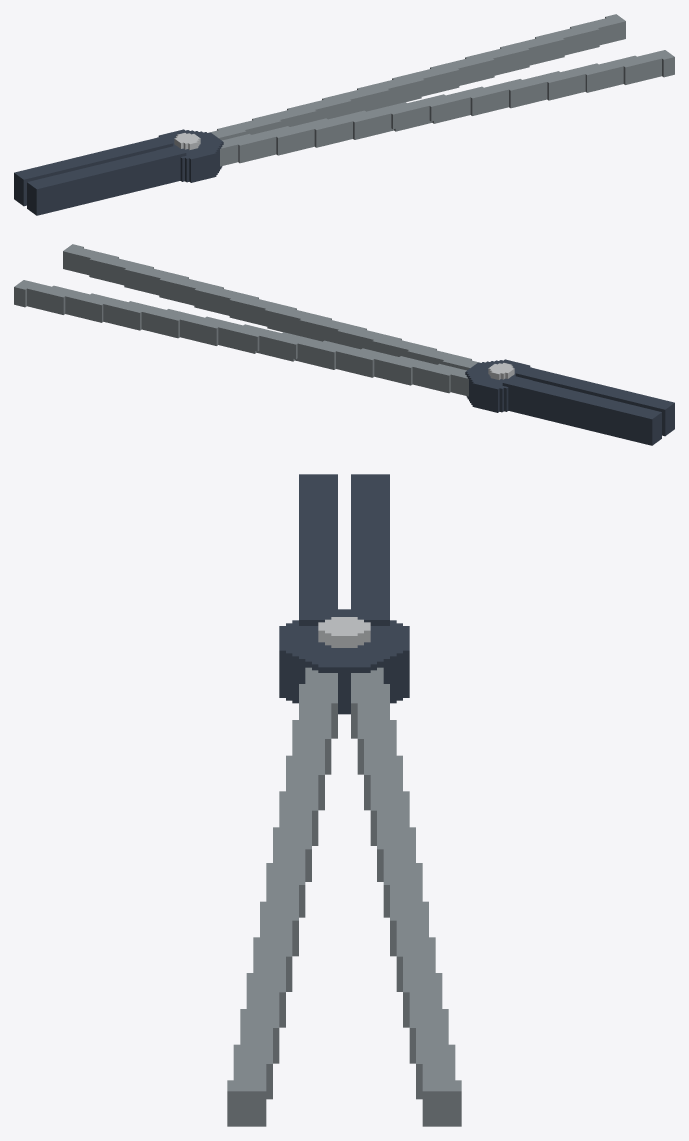
The model's file is metalworking_tongs.glb.
The picture shows the model from 3 angles, top to bottom: view 1: azimuth 30°, elevation 25°; view 2: azimuth 150°, elevation 25°; view 3: azimuth 270°, elevation 25°; orthographic projection. The views are drawn at different scales.
Parts seen in each view (by area): view 1: metalworking_tongs:compound; view 2: metalworking_tongs:compound; view 3: metalworking_tongs:compound.
Part boxes in pixels (<box>): metalworking_tongs:compound: <box>14,14,674,215</box>; metalworking_tongs:compound: <box>14,244,674,445</box>; metalworking_tongs:compound: <box>227,474,461,1126</box>.
Size of the model in its own units: 0.44 by 0.02 by 0.072.
